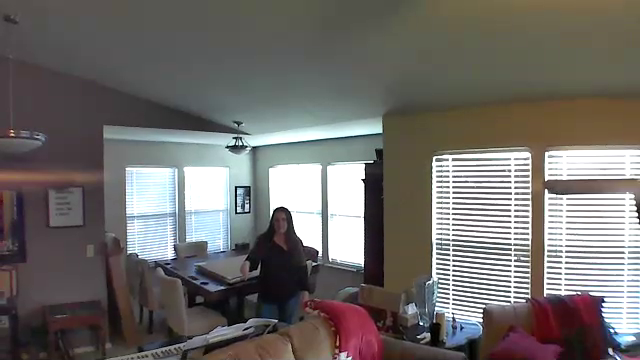down: (235, 257, 253, 286)
